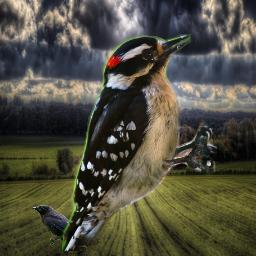Crow: (32, 205, 87, 251)
Woodpecker: (62, 34, 217, 251)
